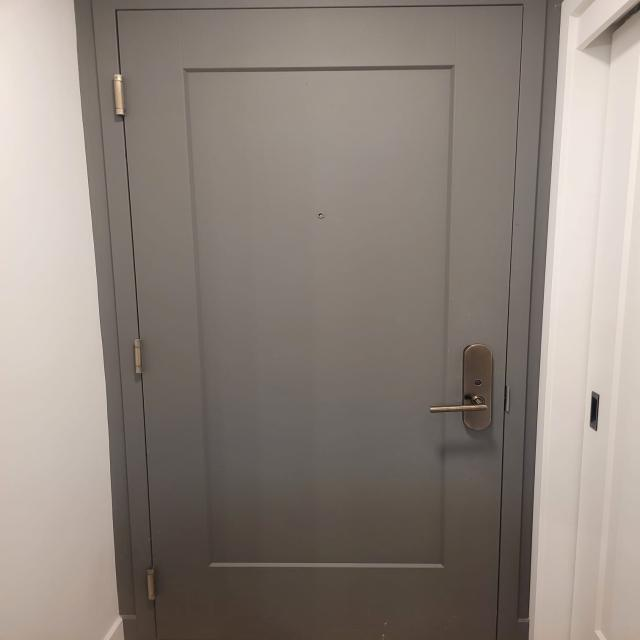door-handle: (430, 396, 488, 412)
